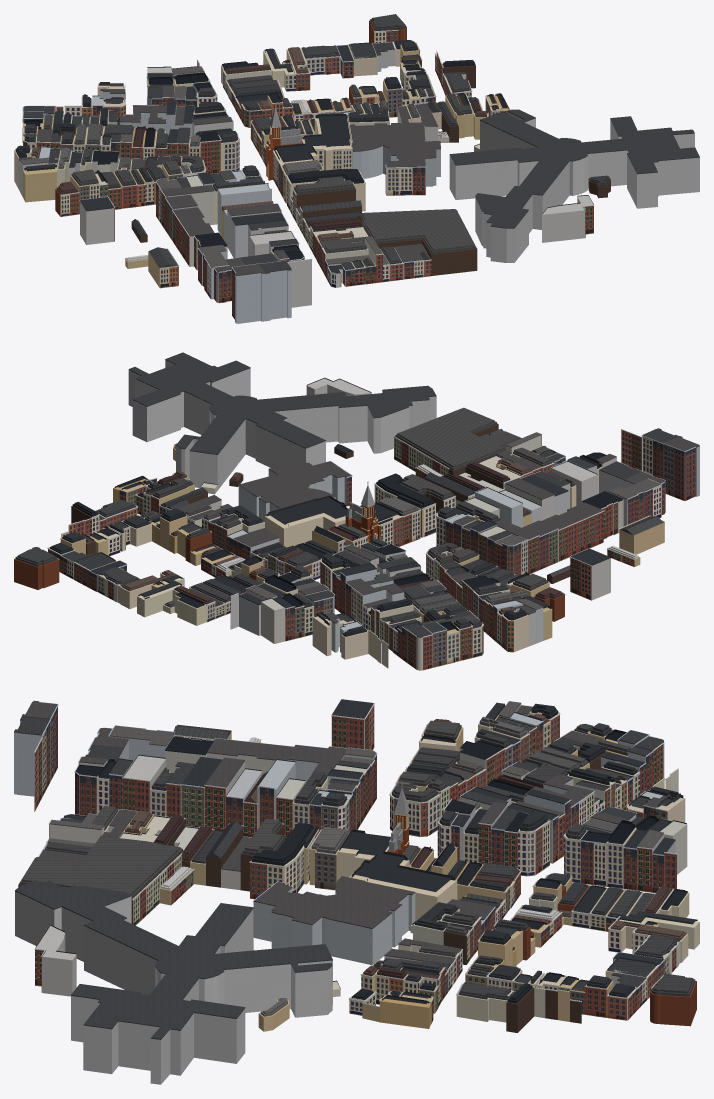
3 views of the same model, one above another, from view 1: azimuth 30°, elevation 25°; view 2: azimuth 150°, elevation 25°; view 3: azimuth 270°, elevation 25° (orthographic). The views are drawn at different scales.
Visible parts, largest first — view 1: bldg_498835534, bldg_498835534_roof, bldg_498298130_roof_b, bldg_498298121_roof, bldg_498280793_roof_b, bldg_498835514, bldg_498298121, bldg_453588681, bldg_498298130, bldg_453588679, bldg_498308667, bldg_498298121_facade0 (+16 smaller); view 2: bldg_498835534, bldg_498835534_roof, bldg_498298130_roof_b, bldg_498298121_roof, bldg_498280793_roof_b, bldg_498280793, bldg_498826887_facade0, bldg_498298121, bldg_498859664, bldg_453588681_facade1, bldg_498298137, bldg_498298215 (+26 smaller); view 3: bldg_498835534, bldg_498835534_roof, bldg_498298121, bldg_498298130_roof_b, bldg_498298121_roof, bldg_498280793_roof_b, bldg_498835514, bldg_498280793, bldg_498859664, bldg_453588679, bldg_498835492, bldg_498826887_roof (+33 smaller).
Boxes of the visible parts, x1,y1,x2,y2 form: bldg_498835534: [449, 111, 699, 262]; bldg_498835534_roof: [449, 109, 699, 228]; bldg_498298130_roof_b: [362, 209, 474, 251]; bldg_498298121_roof: [350, 122, 440, 167]; bldg_498280793_roof_b: [275, 114, 350, 162]; bldg_498835514: [542, 195, 593, 242]; bldg_498298121: [352, 140, 440, 195]; bldg_453588681: [235, 273, 264, 323]; bldg_498298130: [359, 215, 477, 275]; bldg_453588679: [265, 270, 291, 321]; bldg_498308667: [80, 201, 114, 244]; bldg_498298121_facade0: [386, 166, 426, 195]; bldg_498835534: [128, 360, 436, 490]; bldg_498835534_roof: [128, 352, 436, 454]; bldg_498298130_roof_b: [397, 407, 504, 467]; bldg_498298121_roof: [239, 461, 351, 508]; bldg_498280793_roof_b: [268, 495, 399, 524]; bldg_498280793: [265, 507, 401, 547]; bldg_498826887_facade0: [558, 510, 604, 561]; bldg_498298121: [238, 469, 346, 521]; bldg_498859664: [14, 558, 58, 589]; bldg_453588681_facade1: [663, 443, 684, 500]; bldg_498298137: [551, 461, 597, 505]; bldg_498298215: [261, 598, 284, 643]; bldg_498835534: [15, 891, 332, 1084]; bldg_498835534_roof: [15, 880, 332, 1039]; bldg_498298121: [254, 884, 415, 965]; bldg_498298130_roof_b: [22, 835, 180, 894]; bldg_498298121_roof: [254, 876, 415, 928]; bldg_498280793_roof_b: [341, 829, 452, 891]; bldg_498835514: [35, 925, 76, 996]; bldg_498280793: [337, 846, 457, 920]; bldg_498859664: [650, 981, 696, 1026]; bldg_453588679: [14, 720, 41, 796]; bldg_498835492: [380, 998, 430, 1028]; bldg_498826887_roof: [207, 738, 293, 760].
Size of the model in its own units: 322 by 41.67 by 272.
Materials: 131 (59 with a texture image).
